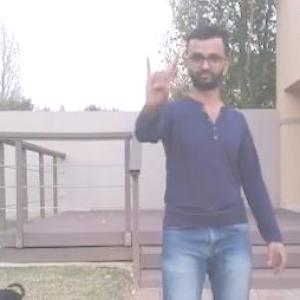takeoff-hand: (131, 44, 183, 109)
